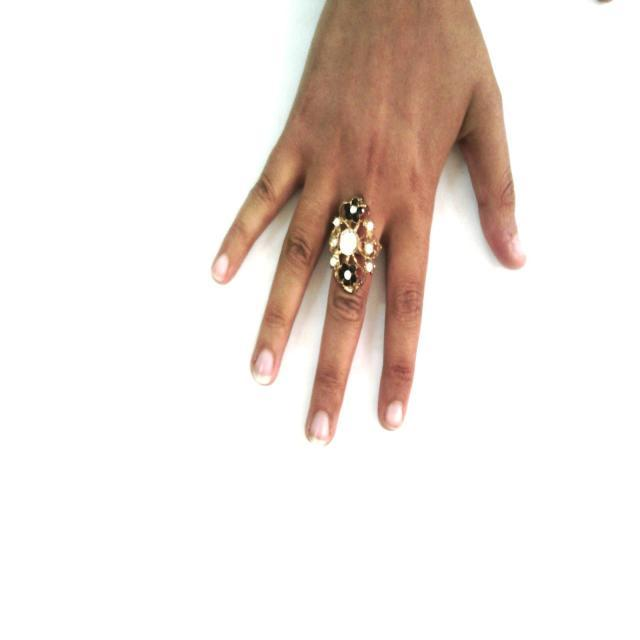Fingernail: (252, 348, 274, 384), (309, 410, 330, 446), (387, 401, 403, 430), (214, 256, 228, 279), (511, 238, 524, 260)
